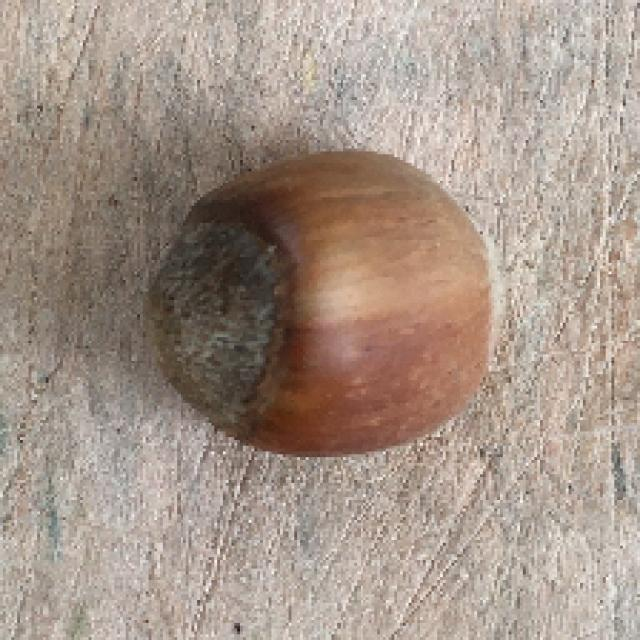damagedHazelnut: (145, 148, 505, 469)
